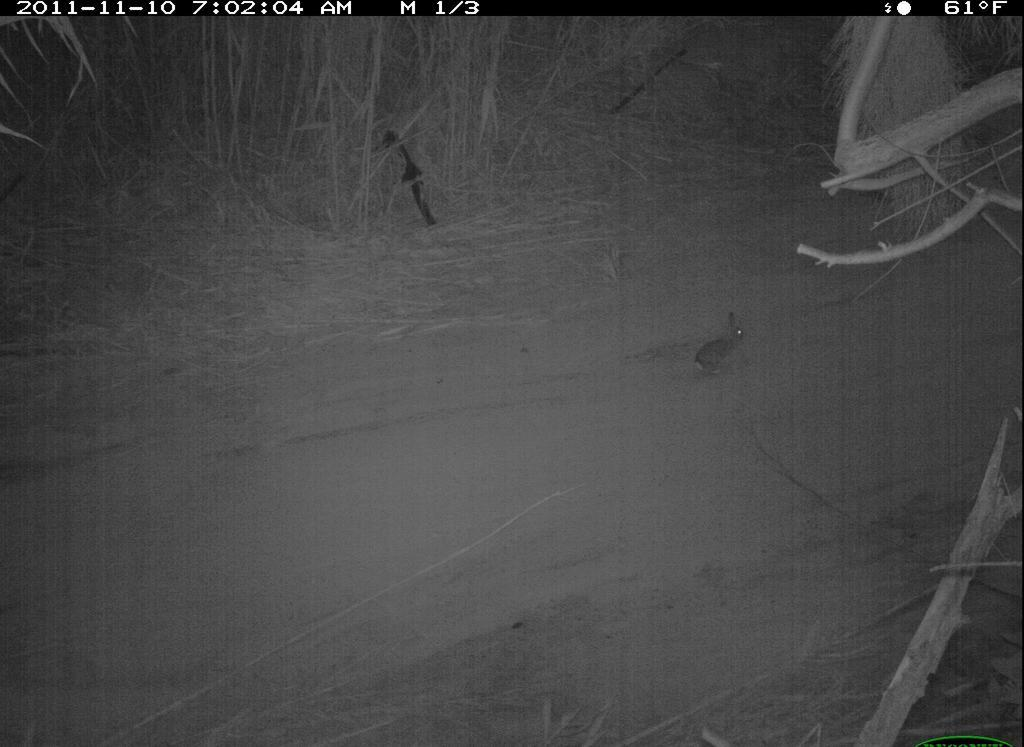rabbit: (689, 291, 770, 390)
